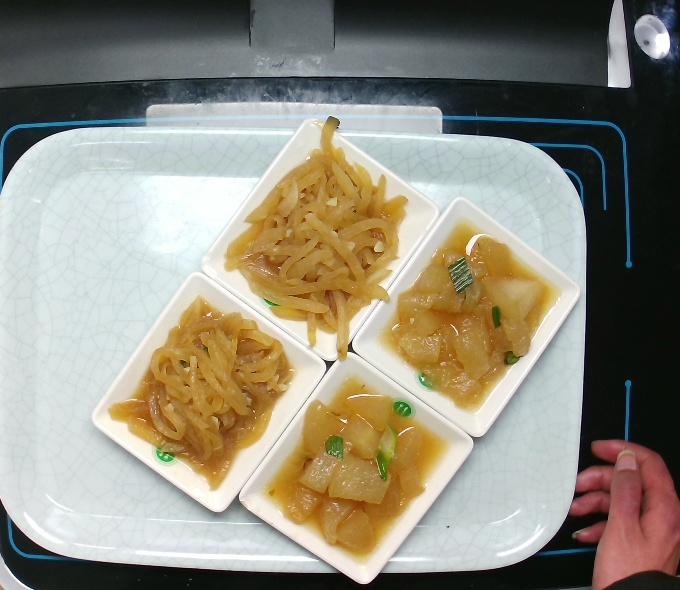wcq-DongGua: (378, 214, 570, 415), (264, 371, 456, 572)
wcq-LuoBoSi: (224, 115, 409, 358), (109, 291, 296, 492)
